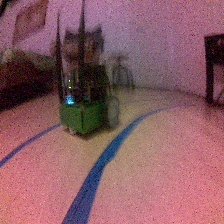rob: (56, 63, 120, 136)
